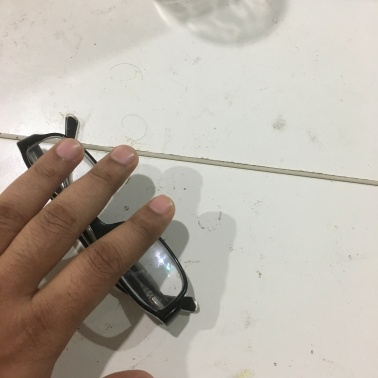glasses: (13, 129, 189, 319)
